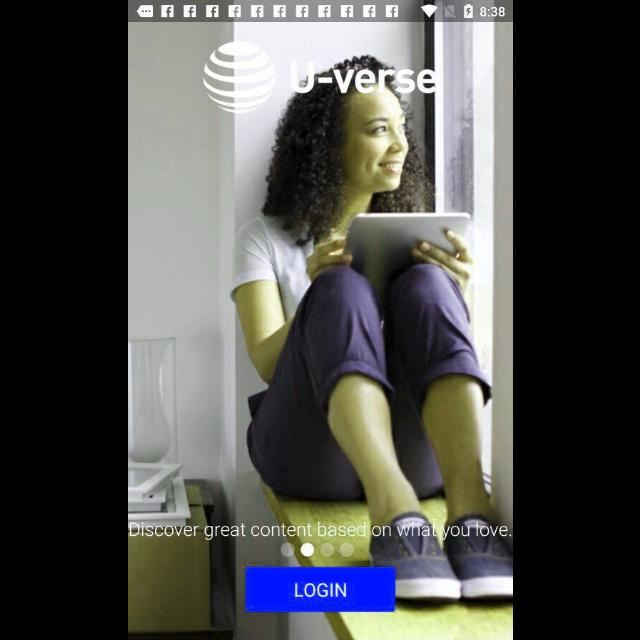backgroundimage: (128, 22, 512, 640)
image: (202, 42, 436, 114)
pageindicator: (279, 542, 353, 558)
text: (129, 522, 511, 540)
textbutton: (245, 566, 395, 612)
uppertaskbar: (128, 1, 512, 23)
